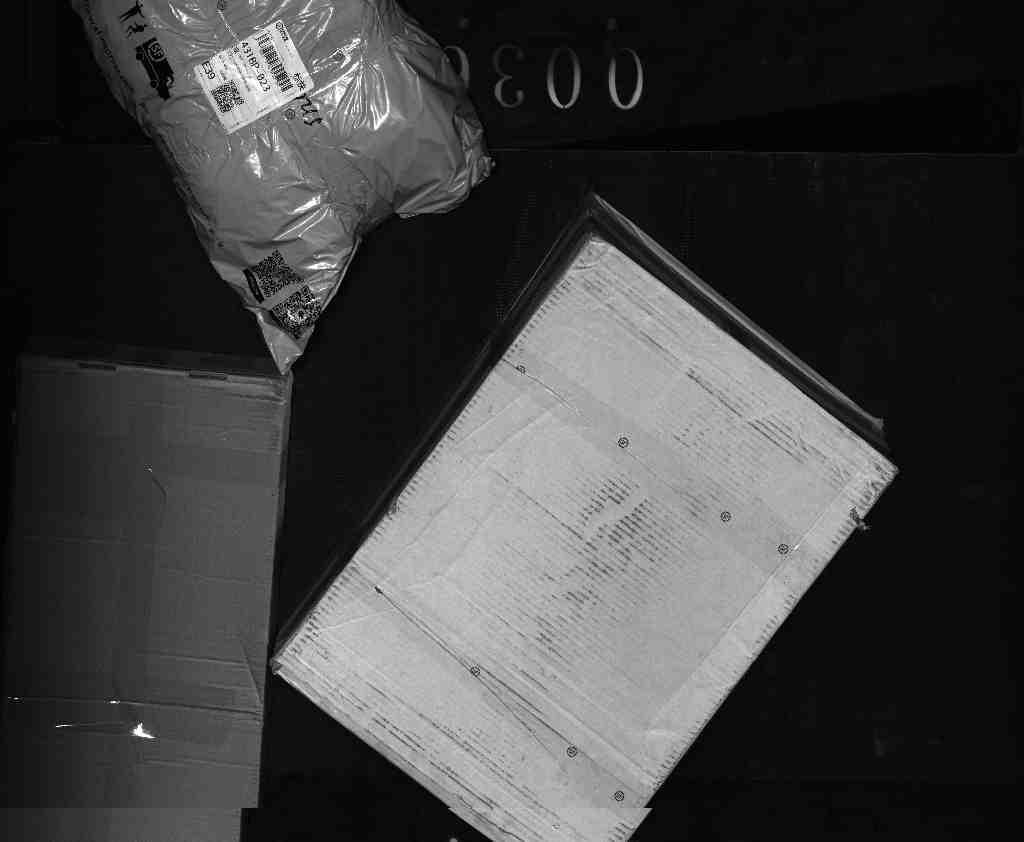box: (294, 242, 905, 842), (69, 1, 487, 351), (4, 359, 269, 834)
